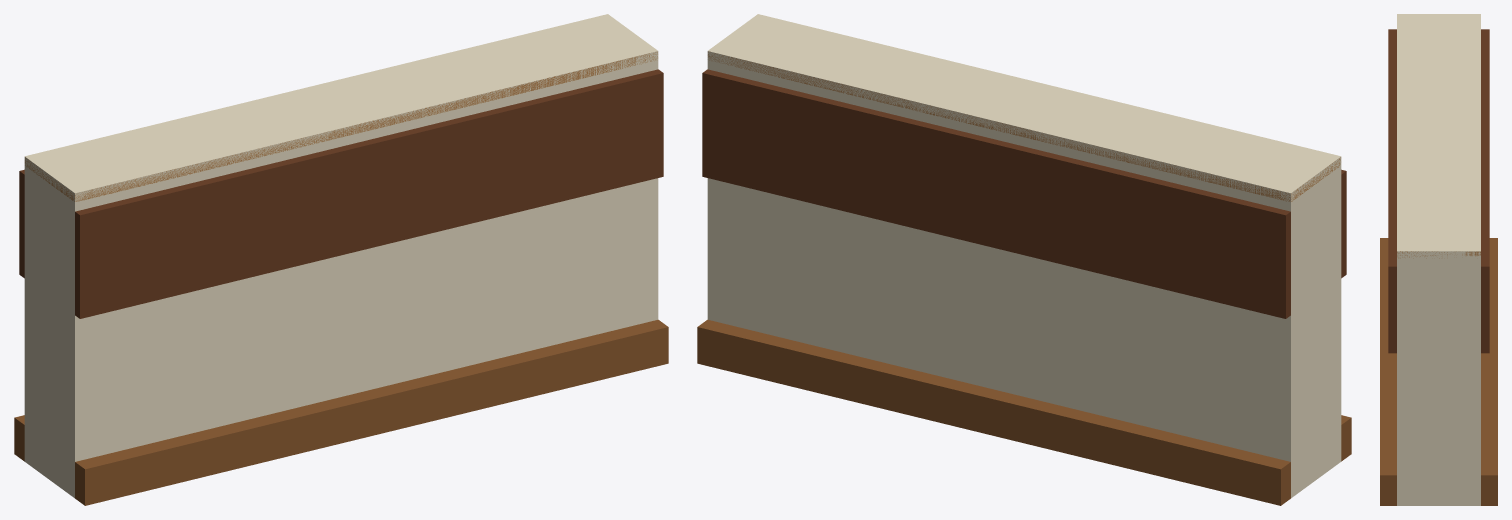
Rendered from partition.glb.
3 views of the same model, side by side, from view 1: azimuth 30°, elevation 25°; view 2: azimuth 150°, elevation 25°; view 3: azimuth 270°, elevation 25° (orthographic). The views are drawn at different scales.
Visible parts, largest first — view 1: partition; view 2: partition; view 3: partition.
Part boxes in pixels (left/top/right/bottom): partition: left=14, top=14, right=668, bottom=505; partition: left=697, top=14, right=1351, bottom=505; partition: left=1380, top=14, right=1497, bottom=505.
Bounding box in the file's own units: 1 × 0.5 × 0.21.
1 material, 1 textured.
